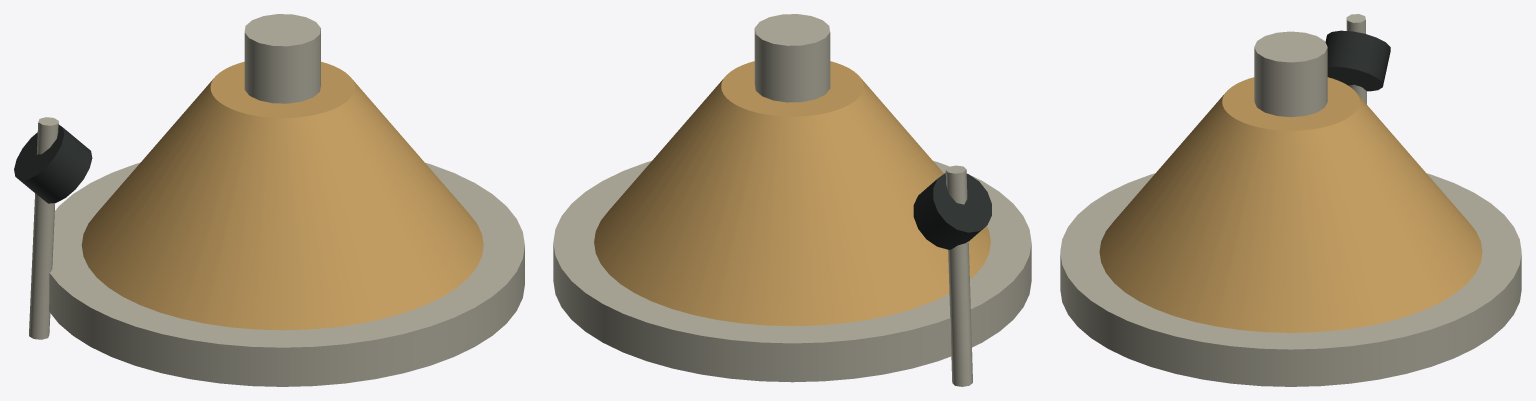
The model's file is Traveller.glb.
The picture shows the model from 3 angles, left to right: view 1: azimuth 30°, elevation 25°; view 2: azimuth 150°, elevation 25°; view 3: azimuth 270°, elevation 25°; orthographic projection. The views are drawn at different scales.
Visible parts, largest first — view 1: Bell skirt, Dome lip, Crown, Clapper, Striker spring; view 2: Bell skirt, Dome lip, Crown, Clapper, Striker spring; view 3: Bell skirt, Dome lip, Crown, Clapper, Striker spring.
Part boxes in pixels (bbox=[...]): Bell skirt: bbox=[81, 61, 483, 330]; Dome lip: bbox=[49, 162, 524, 386]; Crown: bbox=[244, 14, 320, 103]; Clapper: bbox=[14, 124, 92, 203]; Striker spring: bbox=[29, 117, 58, 339]; Bell skirt: bbox=[594, 61, 990, 326]; Dome lip: bbox=[553, 161, 1031, 382]; Crown: bbox=[754, 14, 830, 102]; Clapper: bbox=[913, 173, 991, 249]; Striker spring: bbox=[945, 165, 972, 386]; Bell skirt: bbox=[1099, 77, 1482, 332]; Dome lip: bbox=[1060, 173, 1521, 386]; Crown: bbox=[1254, 31, 1327, 117]; Clapper: bbox=[1325, 30, 1390, 91]; Striker spring: bbox=[1346, 14, 1366, 104].
Bounding box in the file's own units: 0.5272 × 0.3219 × 0.5029.
